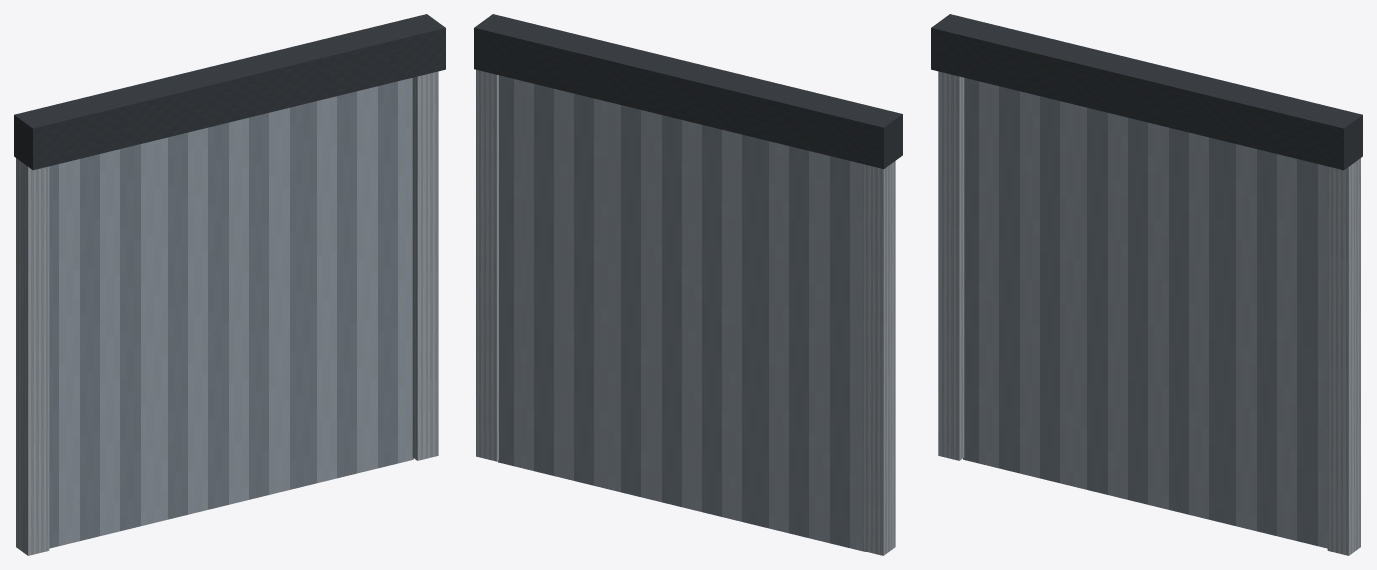
Rendered from industrial-door-lod1.glb.
3 renders of one model, left to right at view 1: azimuth 30°, elevation 25°; view 2: azimuth 150°, elevation 25°; view 3: azimuth 330°, elevation 25°, orthographic.
Parts seen in each view (by area): view 1: industrial-door-lod1; view 2: industrial-door-lod1; view 3: industrial-door-lod1.
Boxes of the visible parts, x1=… form: industrial-door-lod1: x1=14, y1=14, x2=445, y2=555; industrial-door-lod1: x1=474, y1=14, x2=902, y2=555; industrial-door-lod1: x1=931, y1=14, x2=1362, y2=555.
Bounding box in the file's own units: 3.52 × 3.54 × 0.28.
1 material, 1 textured.
